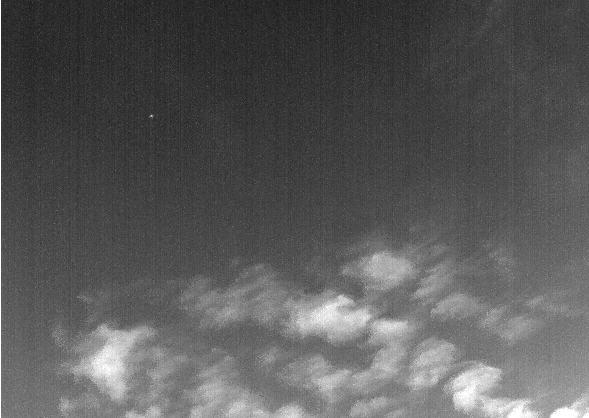dim target: (148, 113, 155, 118)
